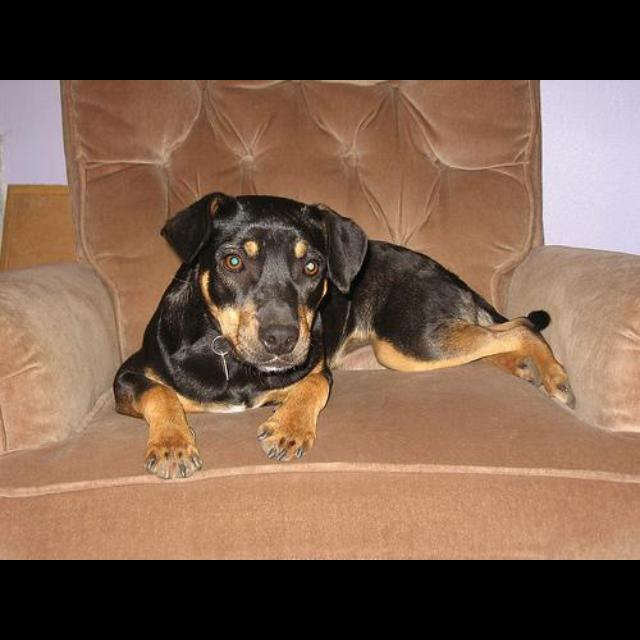rottweiler: (113, 192, 577, 481)
